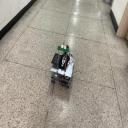cart: (50, 56, 74, 89)
